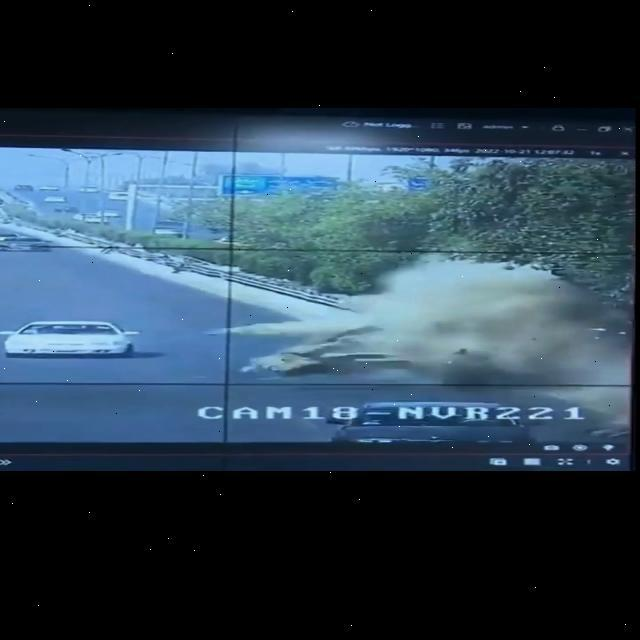accident: (287, 250, 634, 387)
non_accident: (0, 315, 145, 368)
